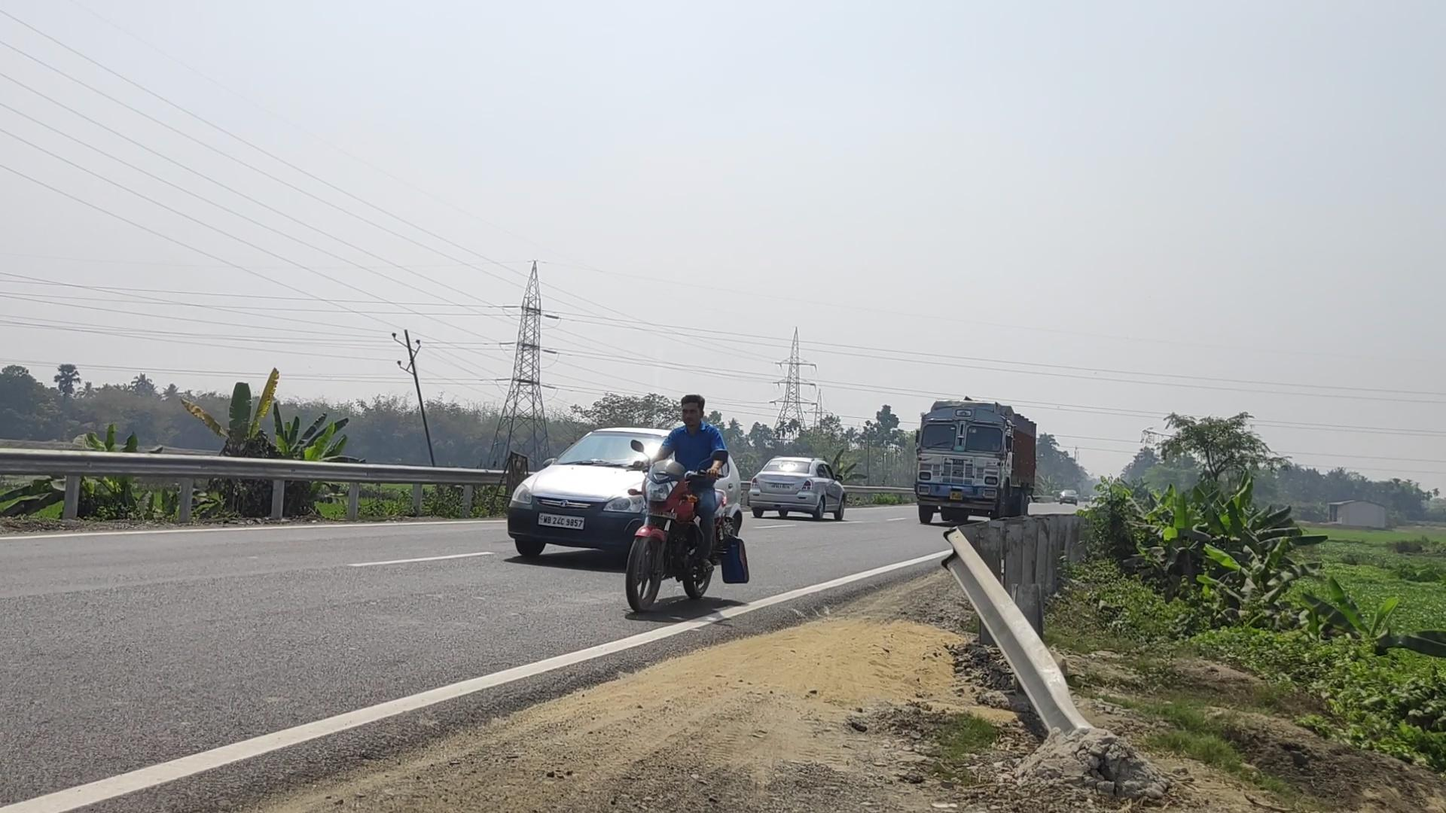bike: (627, 394, 749, 614)
car: (507, 427, 743, 571), (747, 455, 847, 522)
truck: (913, 399, 1036, 525)
